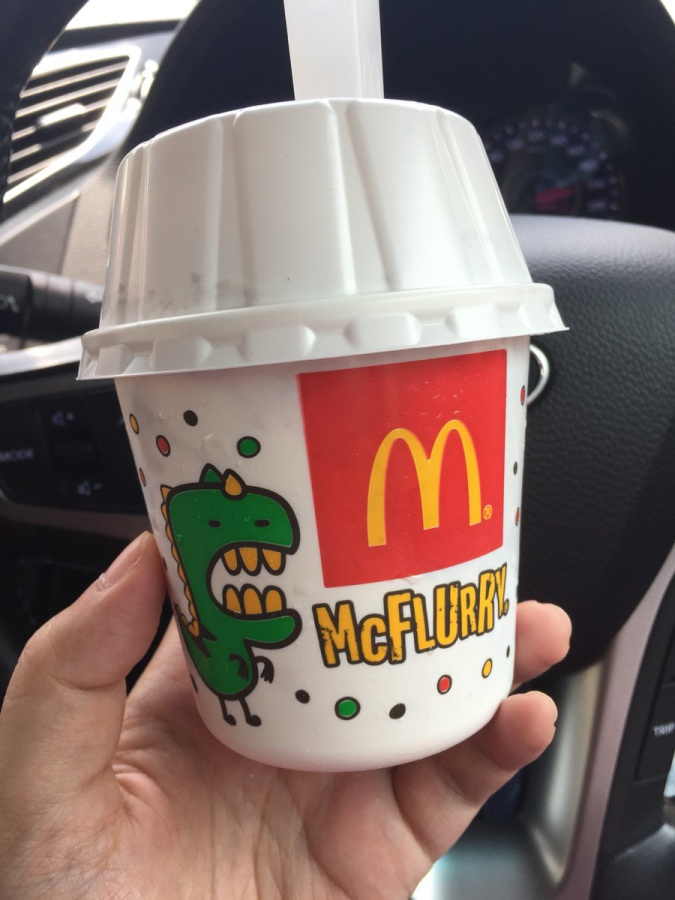mcdonalds: (362, 415, 488, 553)
